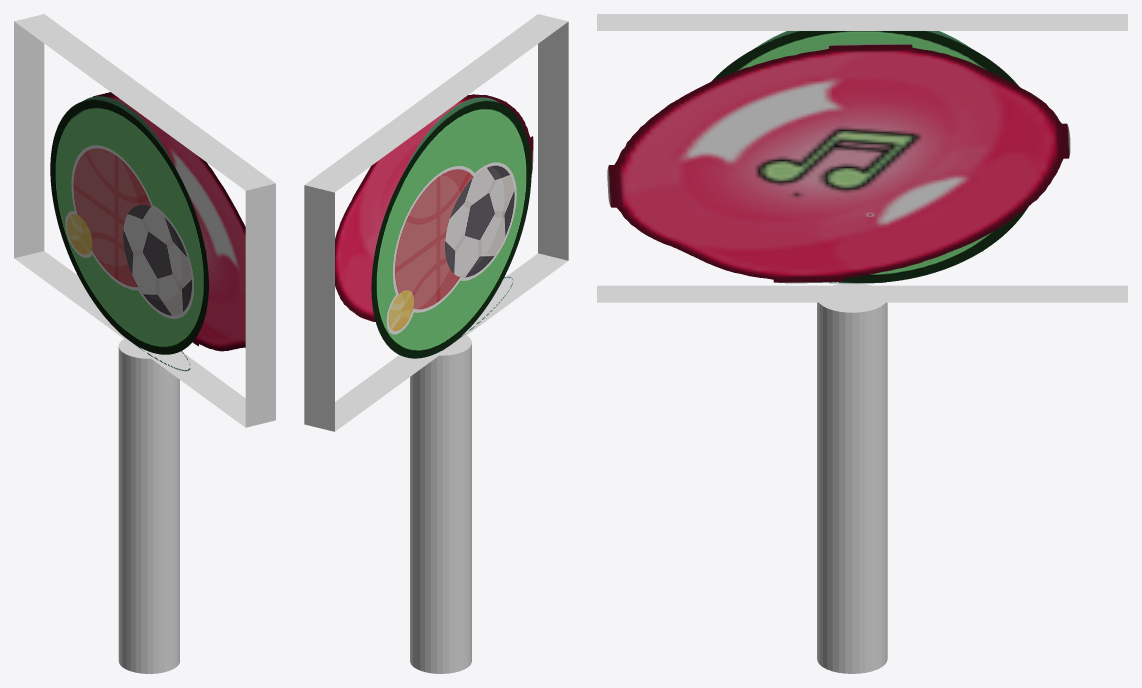
File: once.fbx
3 renders of one model, left to right at view 1: azimuth 30°, elevation 25°; view 2: azimuth 150°, elevation 25°; view 3: azimuth 270°, elevation 25°, orthographic. The views are drawn at different scales.
Parts seen in each view (by area): view 1: Cube, Cylinder; view 2: Cube, Cylinder; view 3: Cube, Cylinder.
Boxes of the visible parts, bbox=[...] form: Cube: bbox=[14, 14, 275, 427]; Cylinder: bbox=[118, 339, 179, 673]; Cube: bbox=[304, 14, 568, 431]; Cylinder: bbox=[410, 335, 471, 673]; Cube: bbox=[597, 14, 1127, 302]; Cylinder: bbox=[817, 283, 887, 673].
Size of the model in its own units: 200 by 1991 by 1504.
